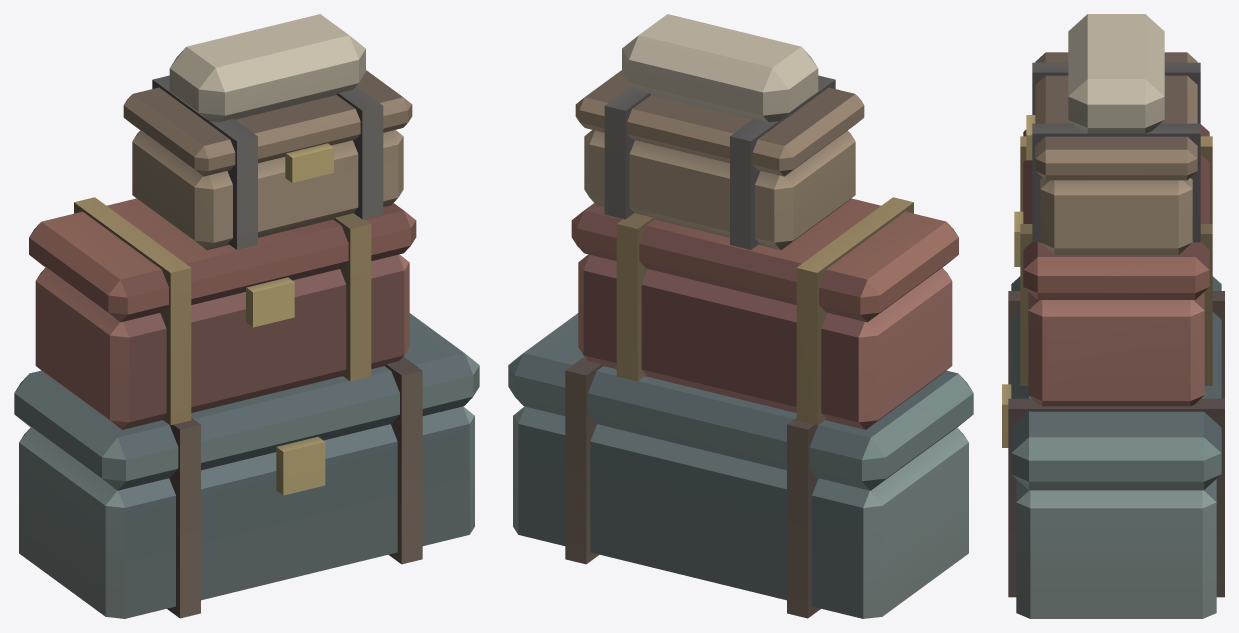
File: chest.glb
3 renders of one model, left to right at view 1: azimuth 30°, elevation 25°; view 2: azimuth 150°, elevation 25°; view 3: azimuth 270°, elevation 25°, orthographic.
Bounding box in the file's own units: 1.08 × 1.38 × 0.555.
